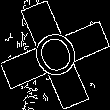O_SE: (25, 23, 85, 87)
